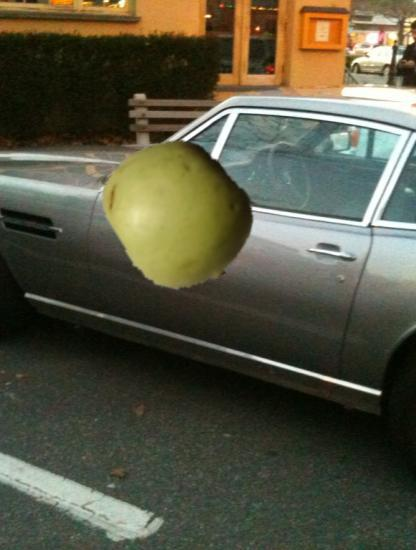Apple: (104, 139, 254, 289)
